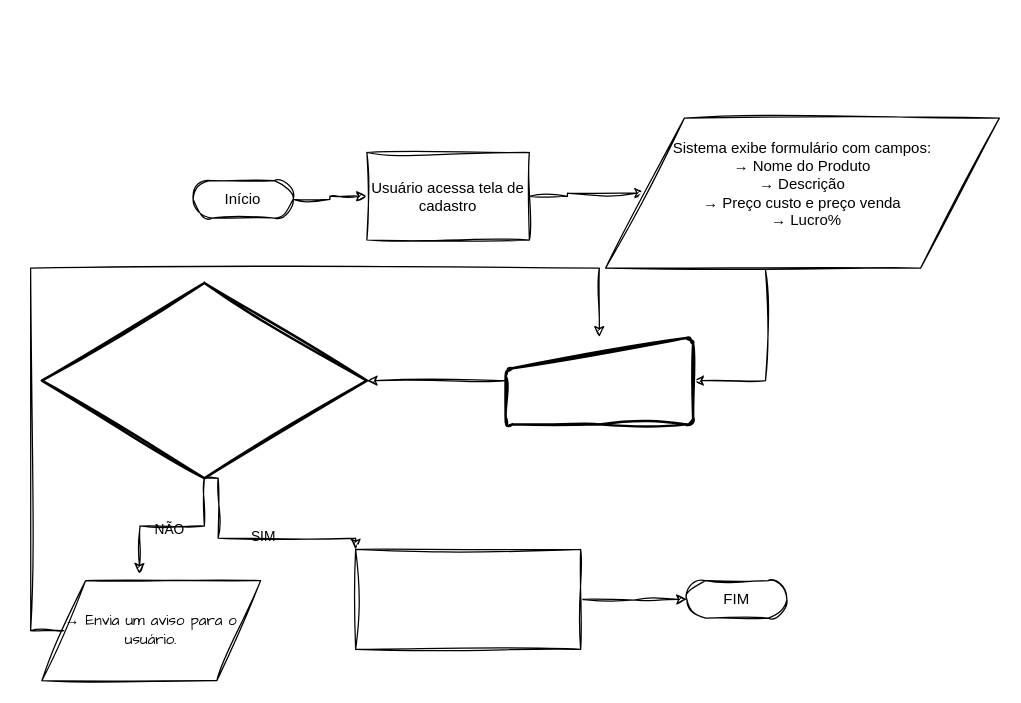
This 1021x703 diagram has some shape labels left out. Each missing label, with the centre of its shape:
"Produto é cadastrado no banco de dados." belongs at pixel 467 598.
"Sistema valida os dados: → Campos obrigatórios preenchidos?" belongs at pixel 204 380.
"Usuário registra os dados do produto" belongs at pixel 599 380.
